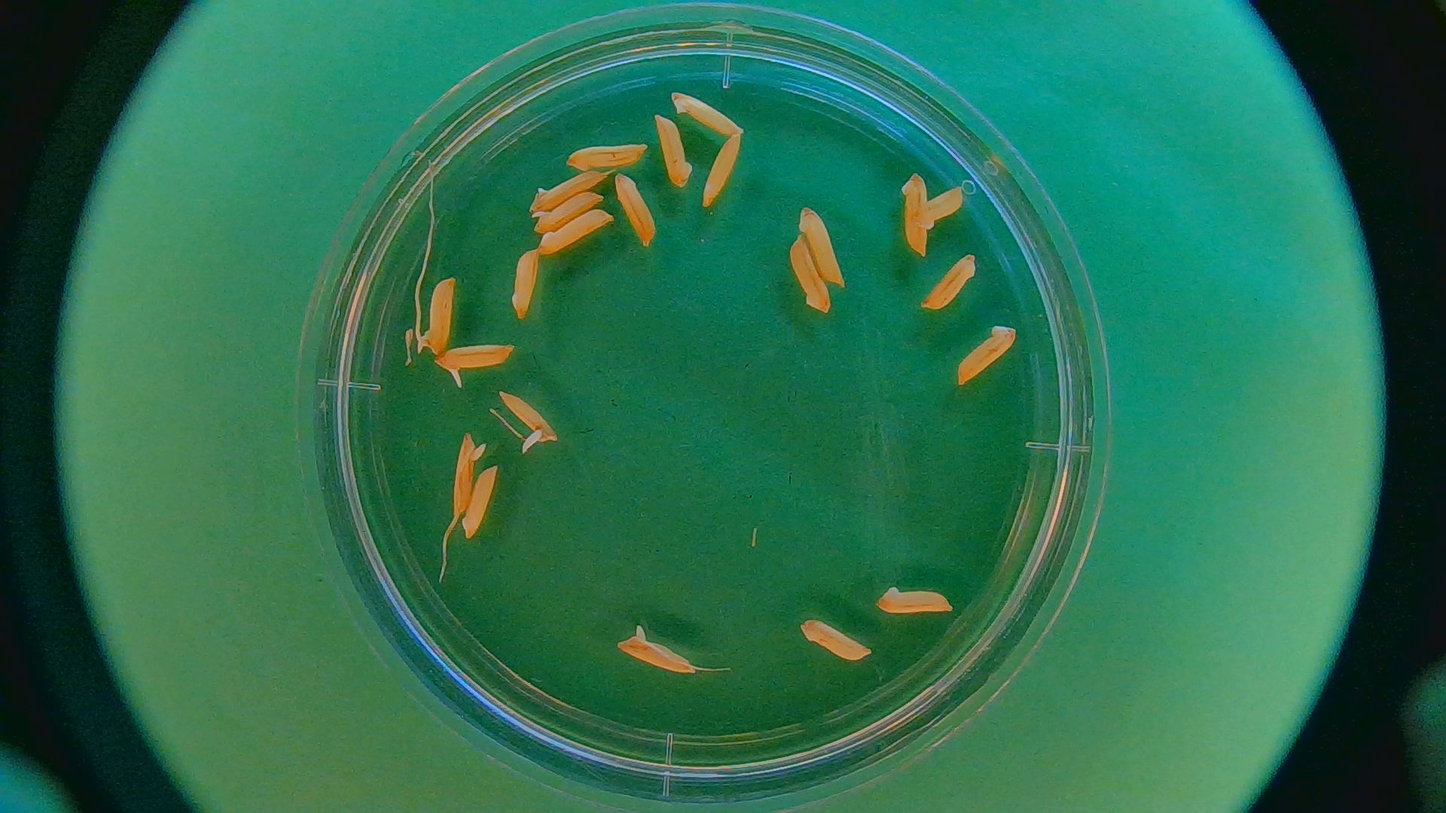no: (956, 322, 1018, 387), (798, 208, 846, 285), (523, 172, 603, 216), (539, 210, 614, 256), (613, 172, 659, 247), (920, 253, 978, 312), (799, 617, 869, 665), (669, 90, 744, 134), (698, 135, 742, 209), (460, 464, 501, 542), (653, 112, 695, 187), (790, 238, 831, 311), (505, 247, 542, 320), (565, 142, 651, 172), (876, 586, 956, 617), (902, 172, 928, 254)
yes: (417, 278, 458, 357), (614, 637, 694, 676), (498, 388, 554, 443), (452, 433, 482, 516), (438, 346, 514, 376)
